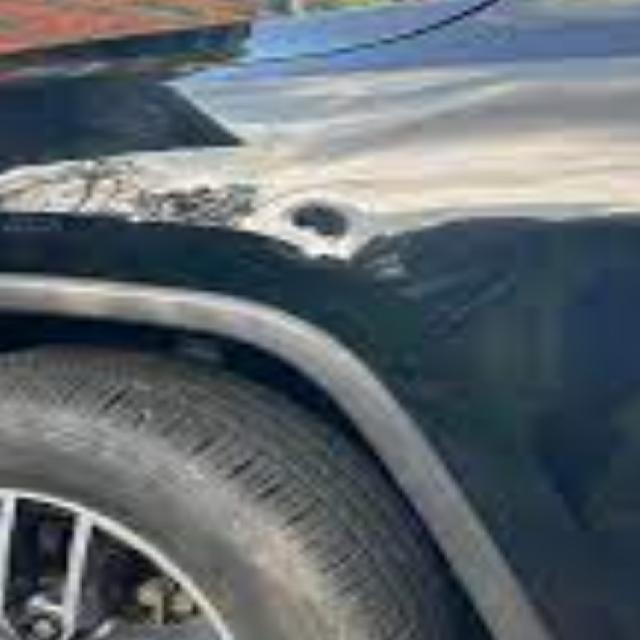dents: (261, 184, 406, 280)
